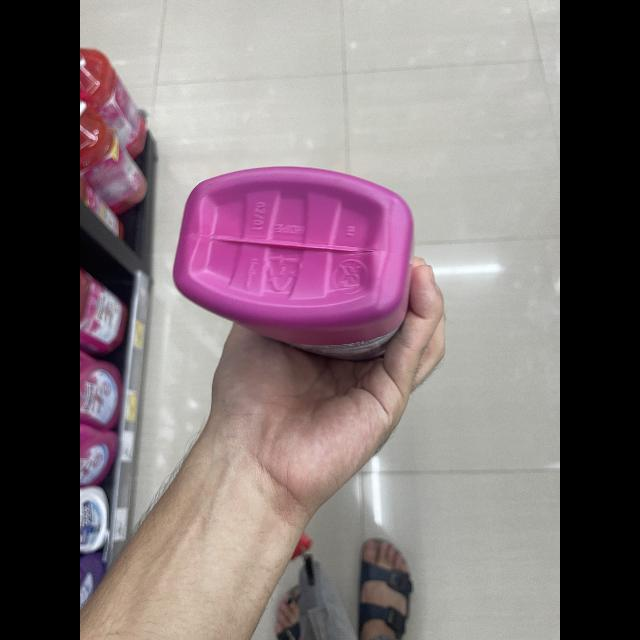chemical_plastic_bottle: (160, 164, 430, 374)
